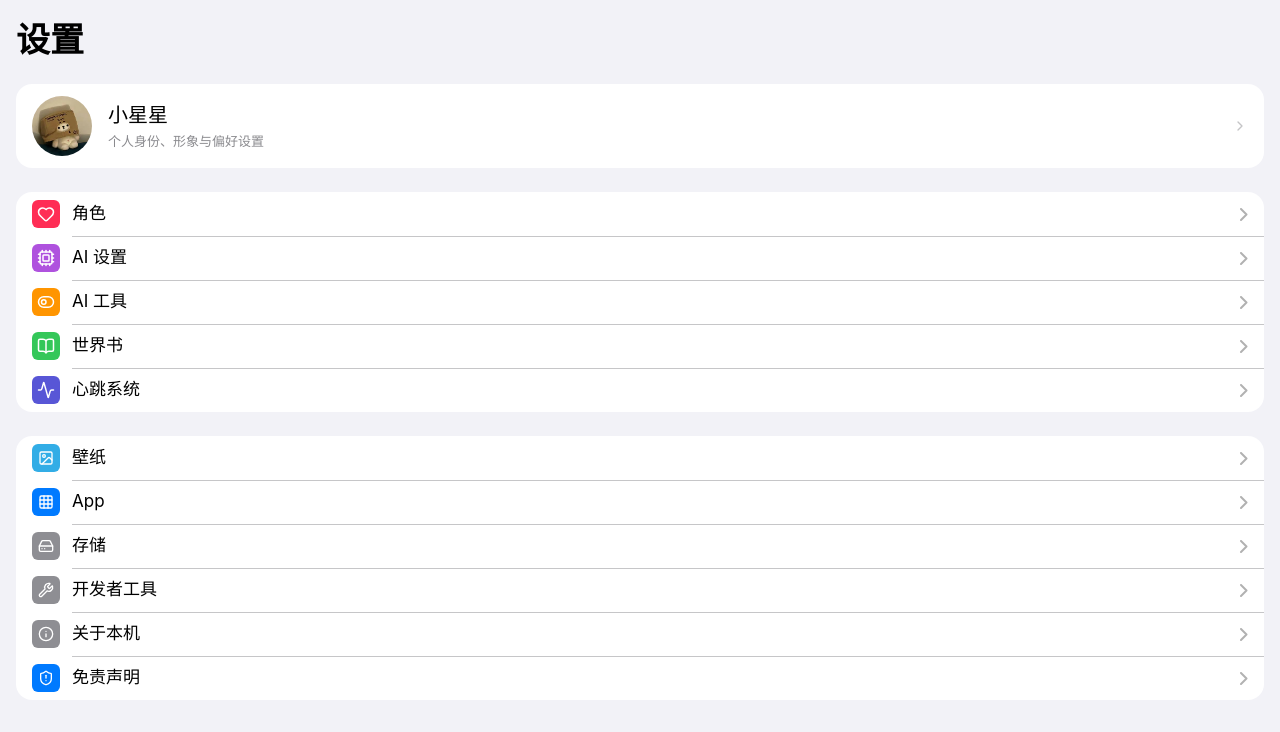
Scenario: SettingsApp › navigates to about page on click
What coordinates should you click on to do the following:
click the button with test id "list-row-关于本机"
I would click on:
 (106, 633)
Its box is [16,612,1264,656].
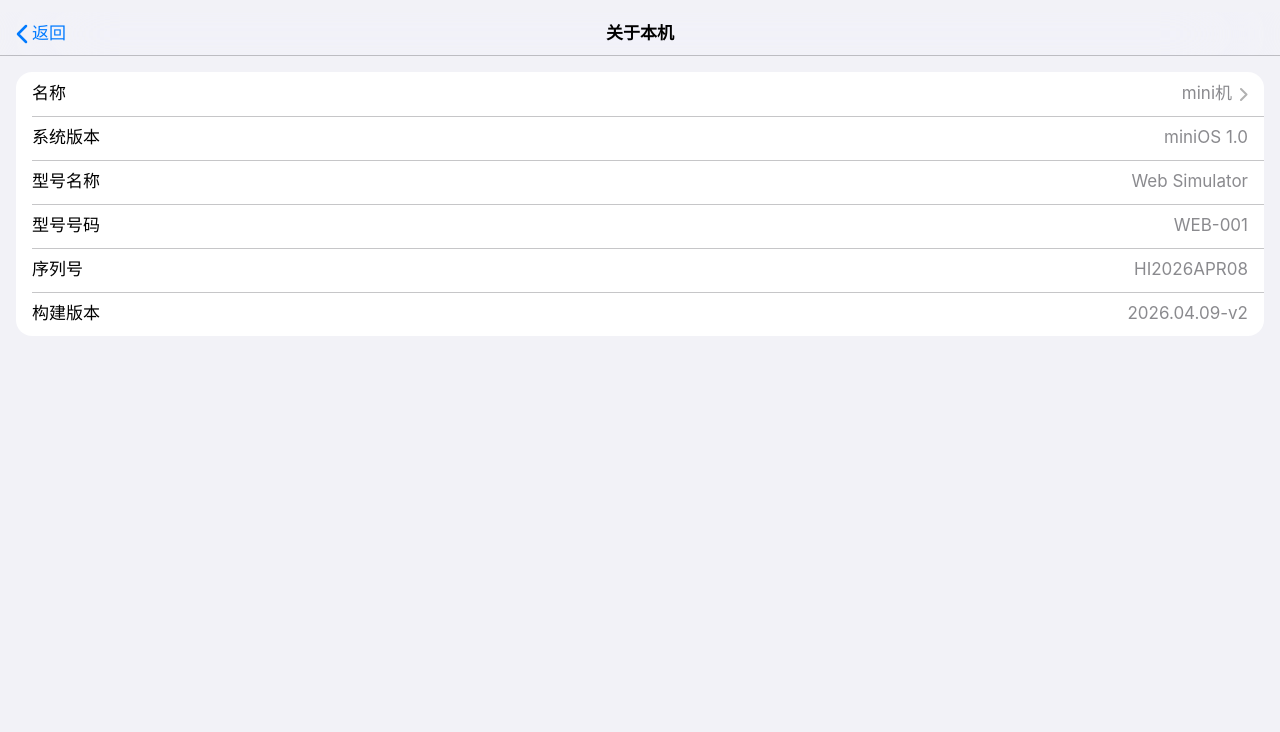
expect the element with test id "about-page" is shown: met
expect the button with test id "nav-back" is shown: met, box [8,12,74,56]
